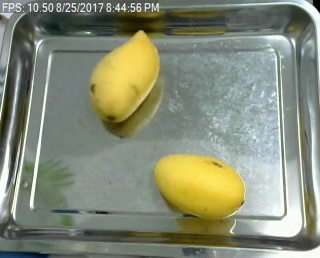Mango: (88, 30, 163, 124), (155, 148, 248, 220)
